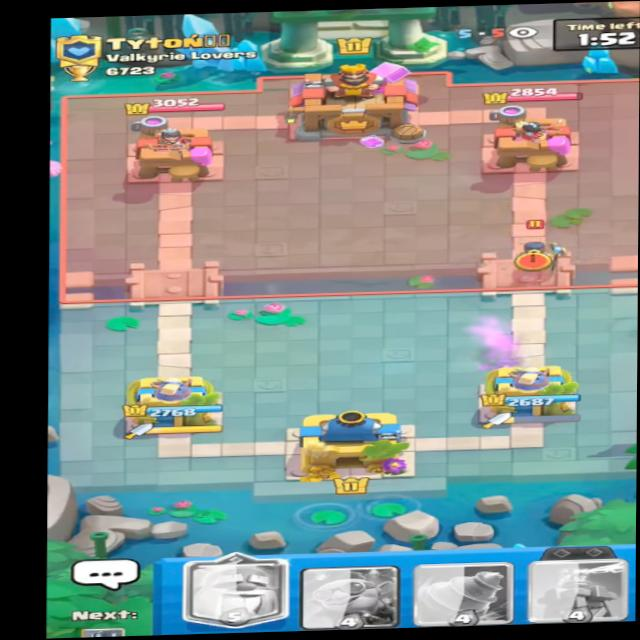night-witch: (496, 234, 585, 281)
